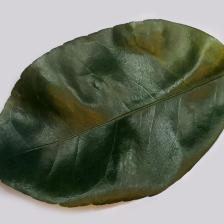healthy: (33, 58, 204, 169)
